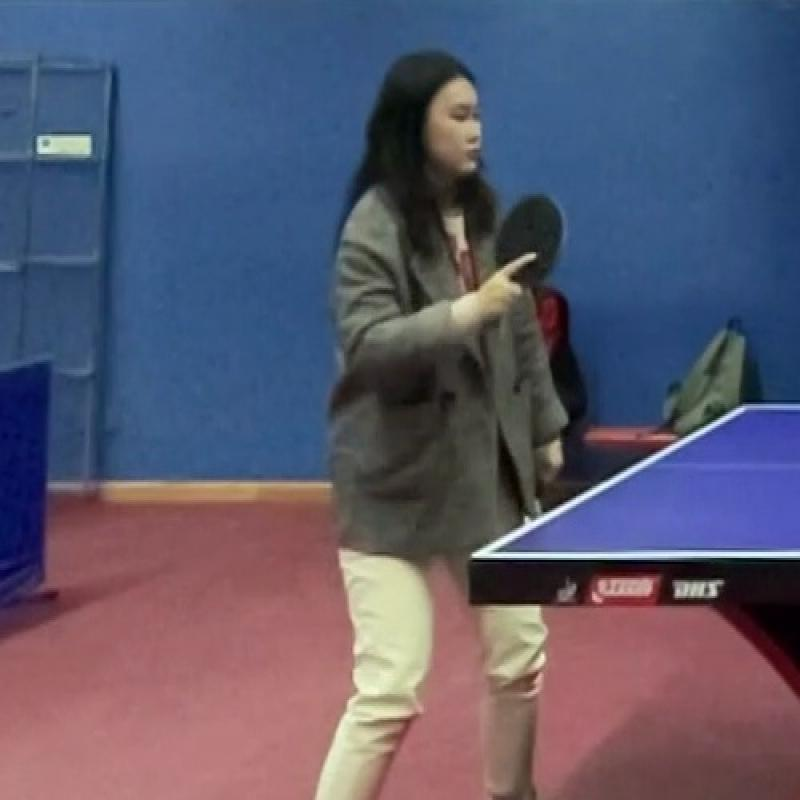bats: (488, 184, 572, 301)
